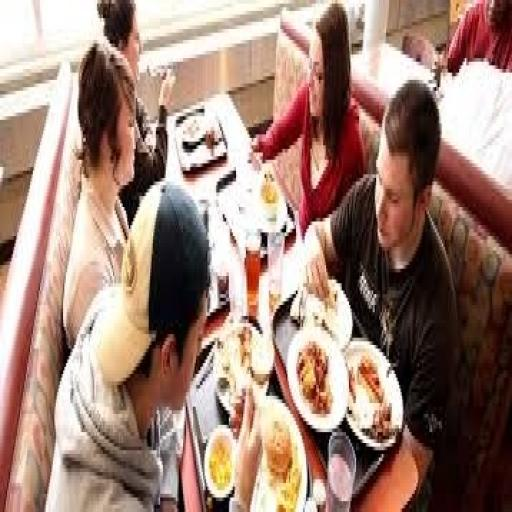eating: (46, 4, 465, 504)
